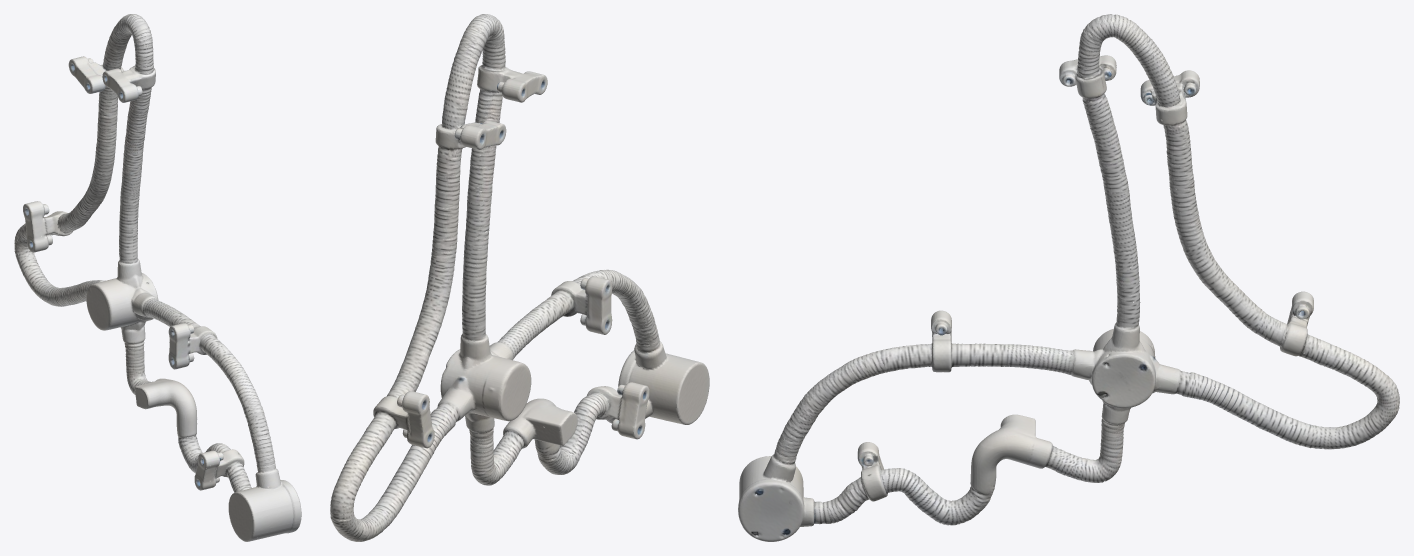
The model's file is OddTimeSignature.glb.
The picture shows the model from 3 angles, left to right: view 1: azimuth 30°, elevation 25°; view 2: azimuth 150°, elevation 25°; view 3: azimuth 270°, elevation 25°; orthographic projection. The views are drawn at different scales.
Parts seen in each view (by area): view 1: tripo_node_00d6d9b6-a9b9-4810-9b37-e981083c2524; view 2: tripo_node_00d6d9b6-a9b9-4810-9b37-e981083c2524; view 3: tripo_node_00d6d9b6-a9b9-4810-9b37-e981083c2524.
Part boxes in pixels (bbox=[...]): tripo_node_00d6d9b6-a9b9-4810-9b37-e981083c2524: bbox=[14, 14, 301, 541]; tripo_node_00d6d9b6-a9b9-4810-9b37-e981083c2524: bbox=[330, 14, 709, 541]; tripo_node_00d6d9b6-a9b9-4810-9b37-e981083c2524: bbox=[738, 14, 1399, 541].
Bounding box in the file's own units: 0.1069 × 0.8636 × 1.
Materials: 1 (1 with a texture image).
